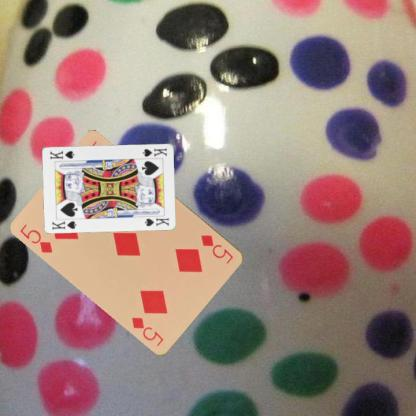5d: (198, 232, 235, 265), (18, 222, 54, 254)
Ks: (141, 145, 168, 158), (50, 219, 77, 230)
